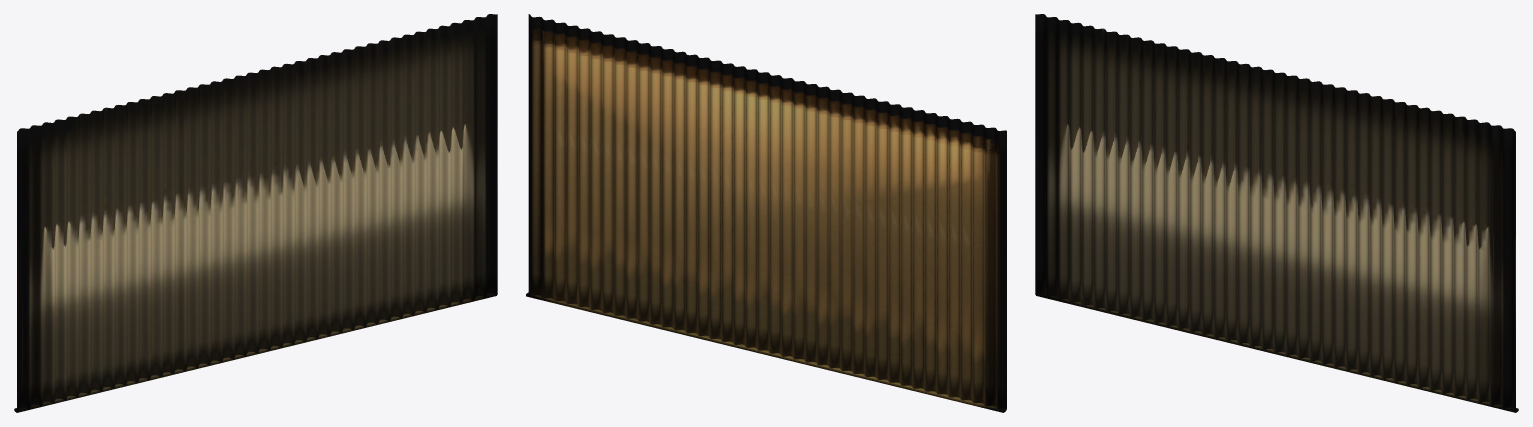
The model's file is palace_curtain.glb.
The picture shows the model from 3 angles, left to right: view 1: azimuth 30°, elevation 25°; view 2: azimuth 150°, elevation 25°; view 3: azimuth 330°, elevation 25°; orthographic projection.
Parts seen in each view (by area): view 1: curtain; view 2: curtain; view 3: curtain.
Part boxes in pixels (box(x1,y1,x2,y2)): curtain: box(14, 14, 497, 412); curtain: box(526, 14, 1006, 412); curtain: box(1035, 14, 1518, 412).
Bounding box in the file's own units: 22.82 × 12.78 × 0.26.
Materials: 1 (1 with a texture image).
